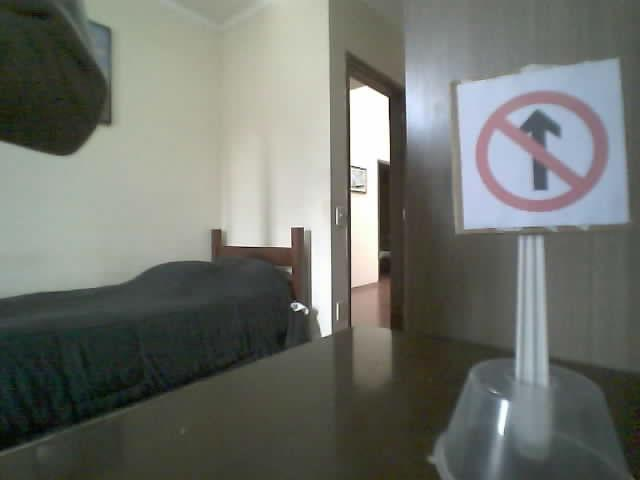R-3_sentido-proibido: (473, 89, 607, 212)
